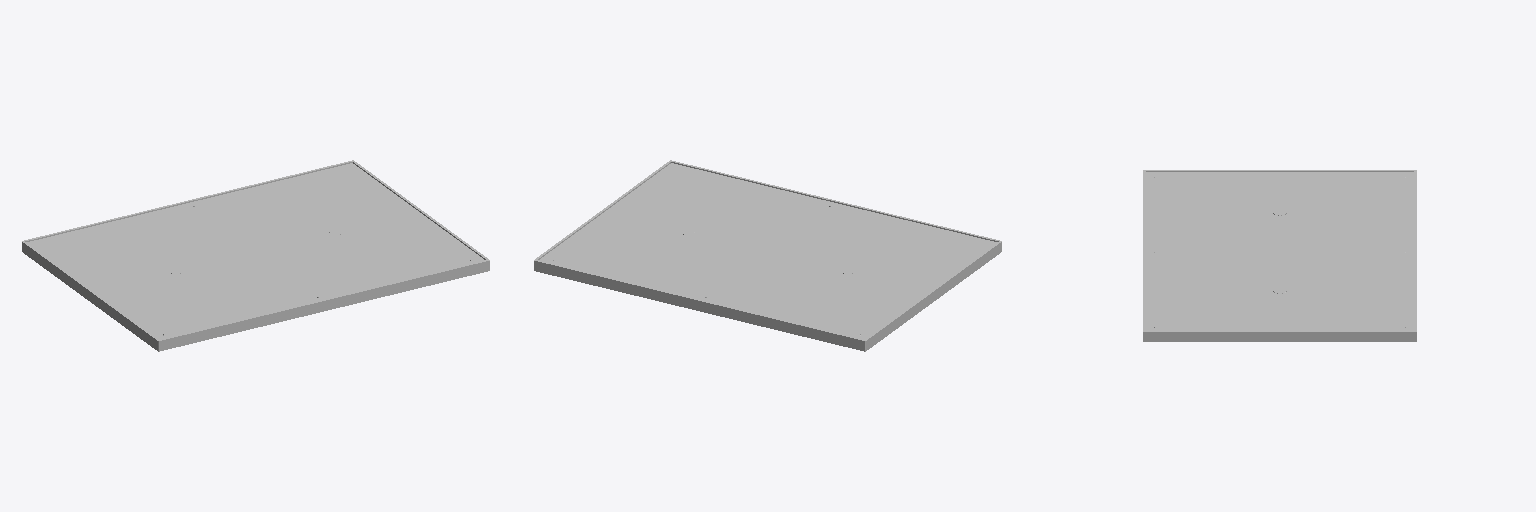
The picture shows the model from 3 angles: view 1: azimuth 30°, elevation 25°; view 2: azimuth 150°, elevation 25°; view 3: azimuth 270°, elevation 25°; orthographic projection.
Parts seen in each view (by area): view 1: Plane.002_Plane.003; view 2: Plane.002_Plane.003; view 3: Plane.002_Plane.003.
Part boxes in pixels (x1,y1,x2,y2): Plane.002_Plane.003: (22, 160, 489, 351); Plane.002_Plane.003: (534, 160, 1001, 351); Plane.002_Plane.003: (1143, 170, 1416, 341).
Bounding box in the file's own units: 1.12 × 0.0339 × 0.8.